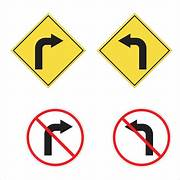left: (96, 12, 172, 89)
right: (12, 14, 85, 87)
